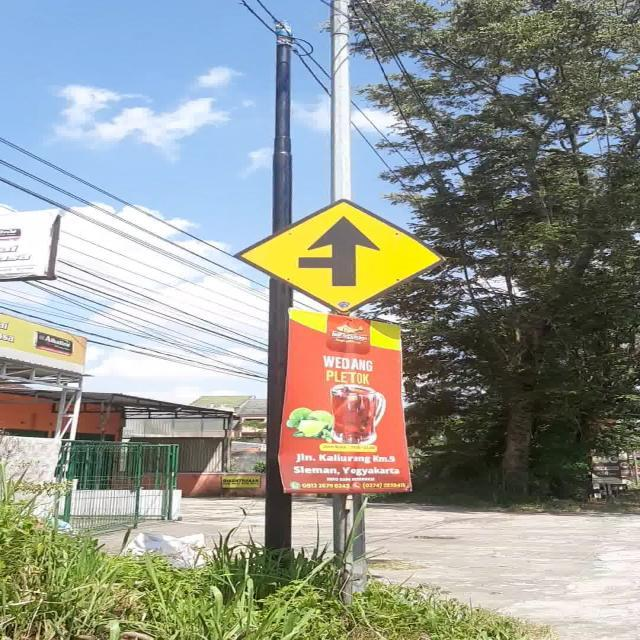Persimpangan 3 Prioritas Kiri: (234, 198, 447, 316)
